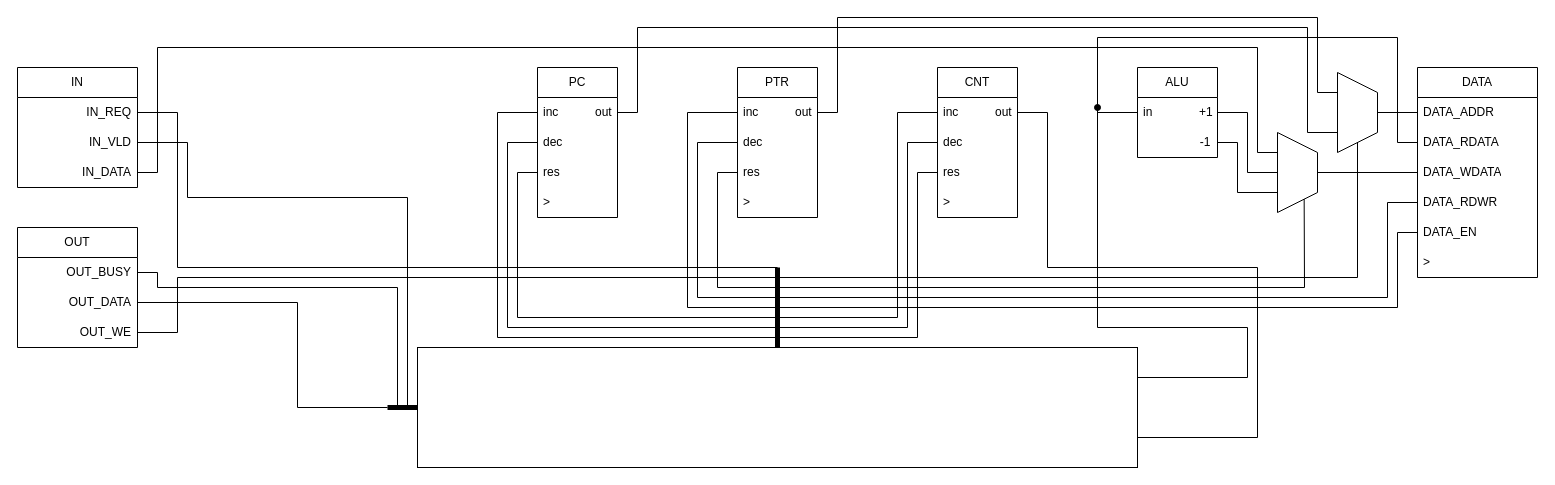
The diagram is 1555 pixels wide and 485 high, and some of its shapes have lost their labels. The centre of each missing label's shape, as x and y in pixels:
FSM: point (777, 407)
MX-1: point (1297, 172)
MX-2: point (1357, 112)
